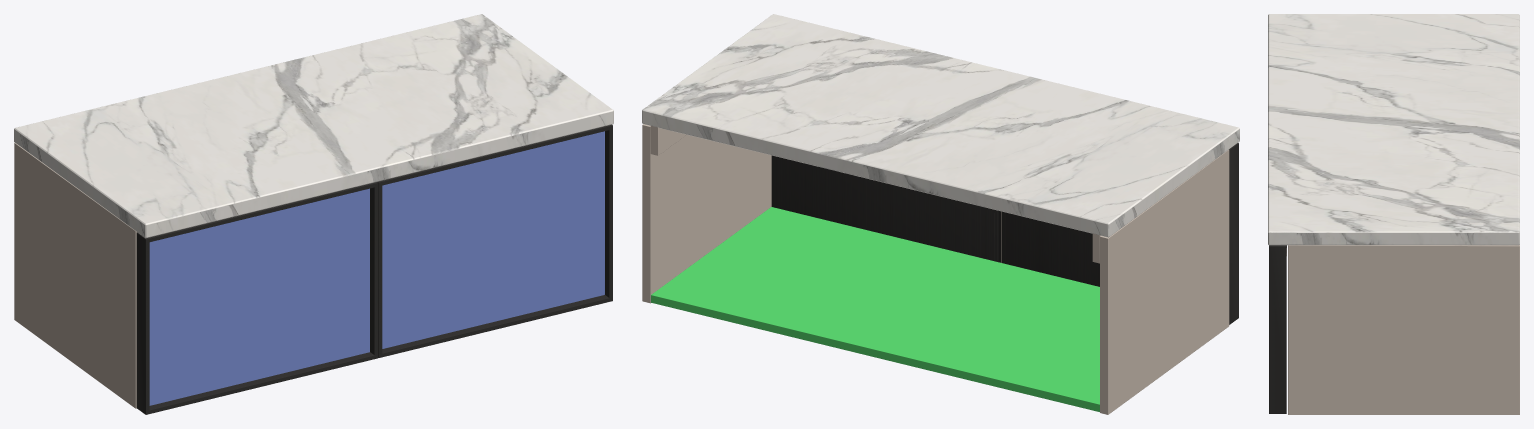
3 renders of one model, left to right at view 1: azimuth 30°, elevation 25°; view 2: azimuth 150°, elevation 25°; view 3: azimuth 270°, elevation 25°, orthographic. The views are drawn at different scales.
Parts seen in each view (by area): view 1: AT02; view 2: AT02; view 3: AT02.
Boxes of the visible parts, x1,y1,x2,y2 form: AT02: (14, 14, 613, 414); AT02: (642, 14, 1239, 414); AT02: (1268, 14, 1519, 414).
Size of the model in its own units: 1 by 0.393 by 0.489.
5 materials, 4 textured.
